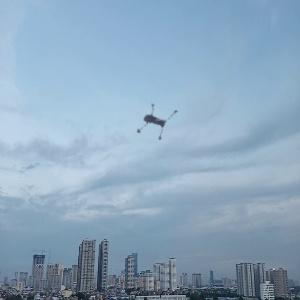drone: (127, 86, 192, 151)
